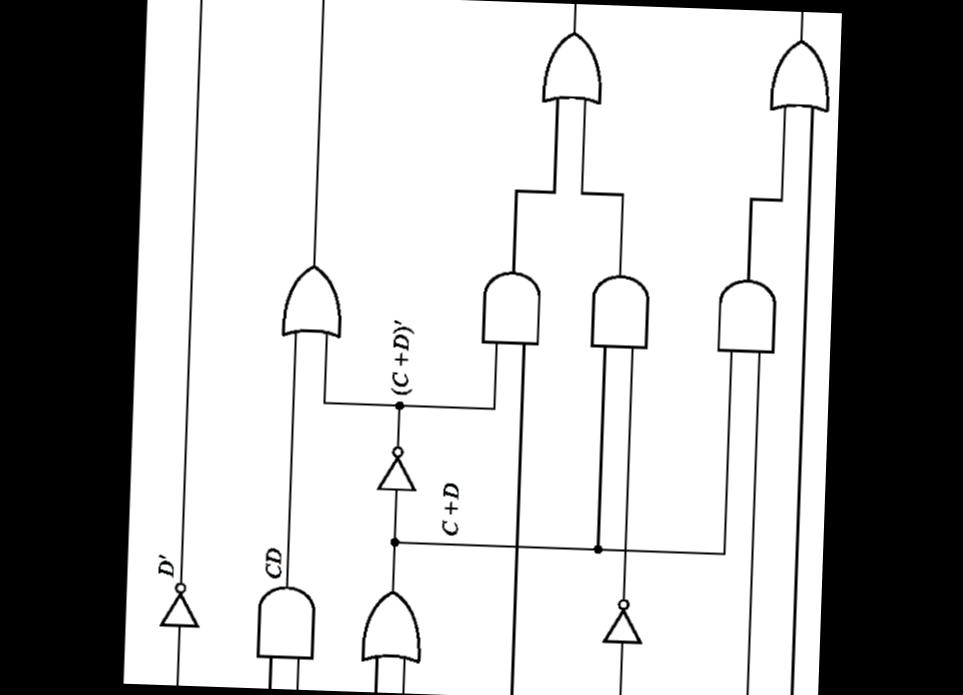and: (583, 268, 655, 354), (474, 263, 544, 349), (711, 272, 780, 357), (250, 579, 318, 663)
not: (154, 578, 206, 632), (369, 441, 420, 494), (595, 593, 644, 647)
or: (533, 24, 609, 108), (274, 258, 346, 342), (355, 582, 424, 665), (762, 35, 832, 116)
